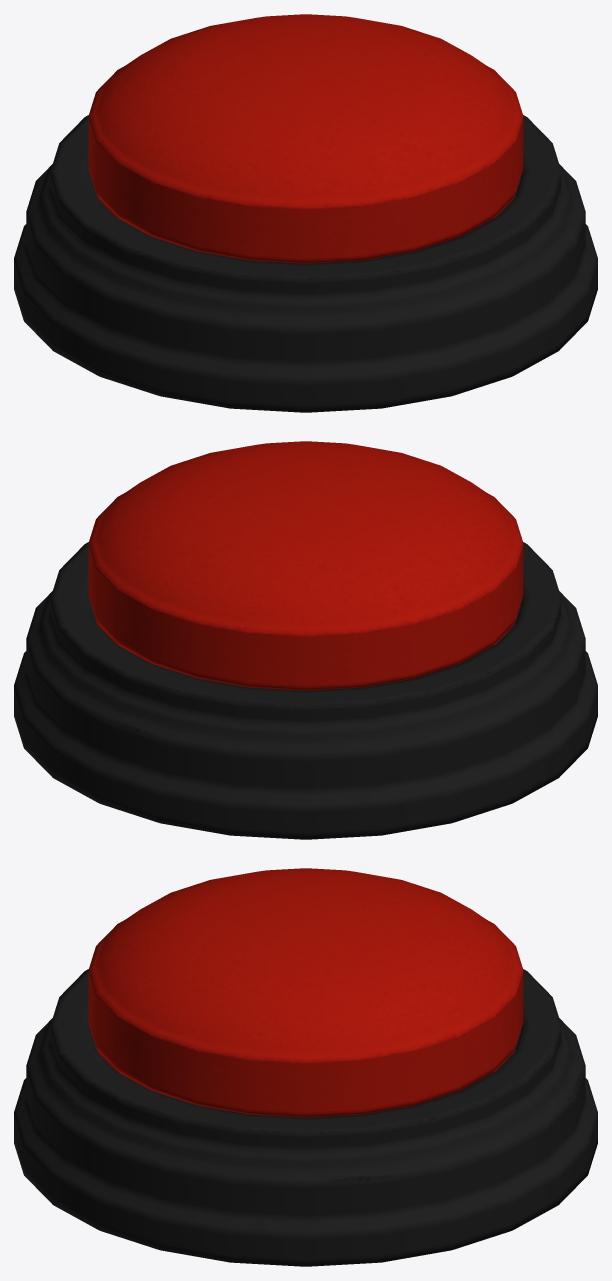
The model's file is Emergency Button 2.dae.
3 renders of one model, top to bottom at view 1: azimuth 30°, elevation 25°; view 2: azimuth 150°, elevation 25°; view 3: azimuth 270°, elevation 25°, orthographic.
Parts seen in each view (by area): view 1: Emergency Button 2; view 2: Emergency Button 2; view 3: Emergency Button 2.
Part boxes in pixels (x1,y1,x2,y2): Emergency Button 2: (14,14,597,412); Emergency Button 2: (14,441,597,839); Emergency Button 2: (14,868,597,1266).
Bounding box in the file's own units: 0.1442 × 0.1442 × 0.0624.
Materials: 1 (1 with a texture image).
